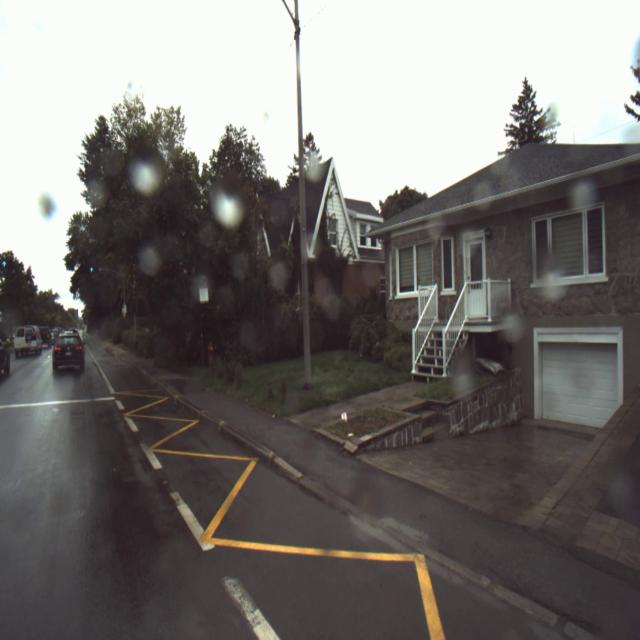car: (52, 332, 85, 376), (12, 325, 42, 359)
trafficLight-Green: (87, 265, 96, 274), (2, 260, 7, 268)
